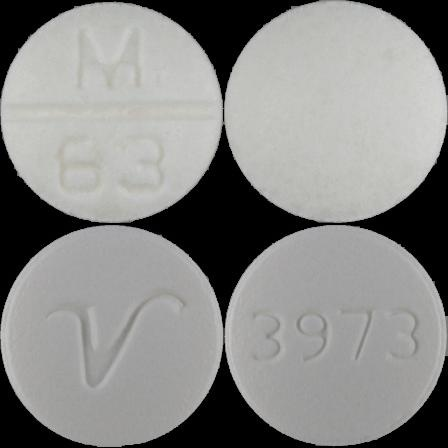43353-985: (0, 0, 224, 224)
